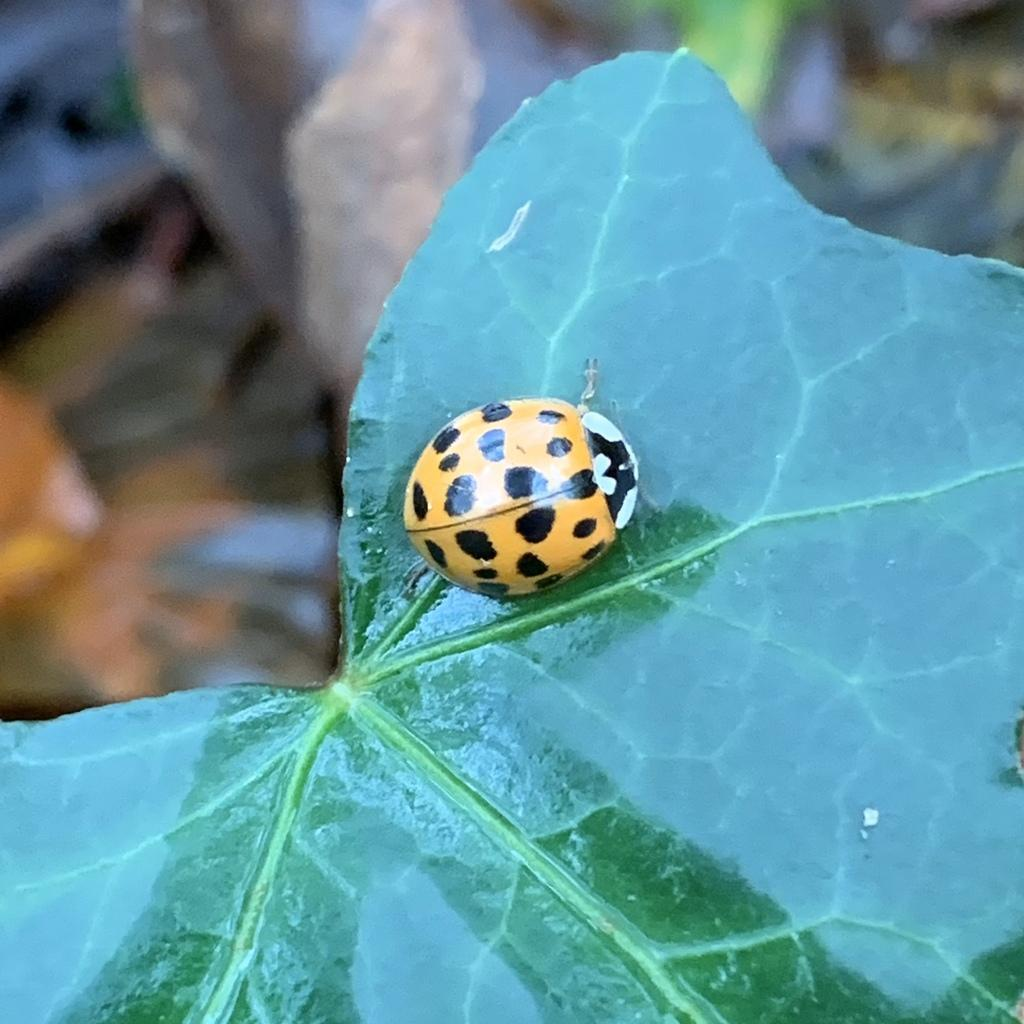ladybug: (404, 356, 646, 601)
